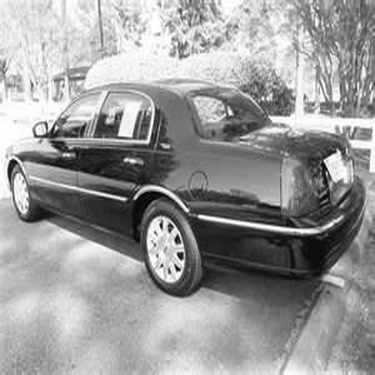car: (3, 73, 372, 297)
